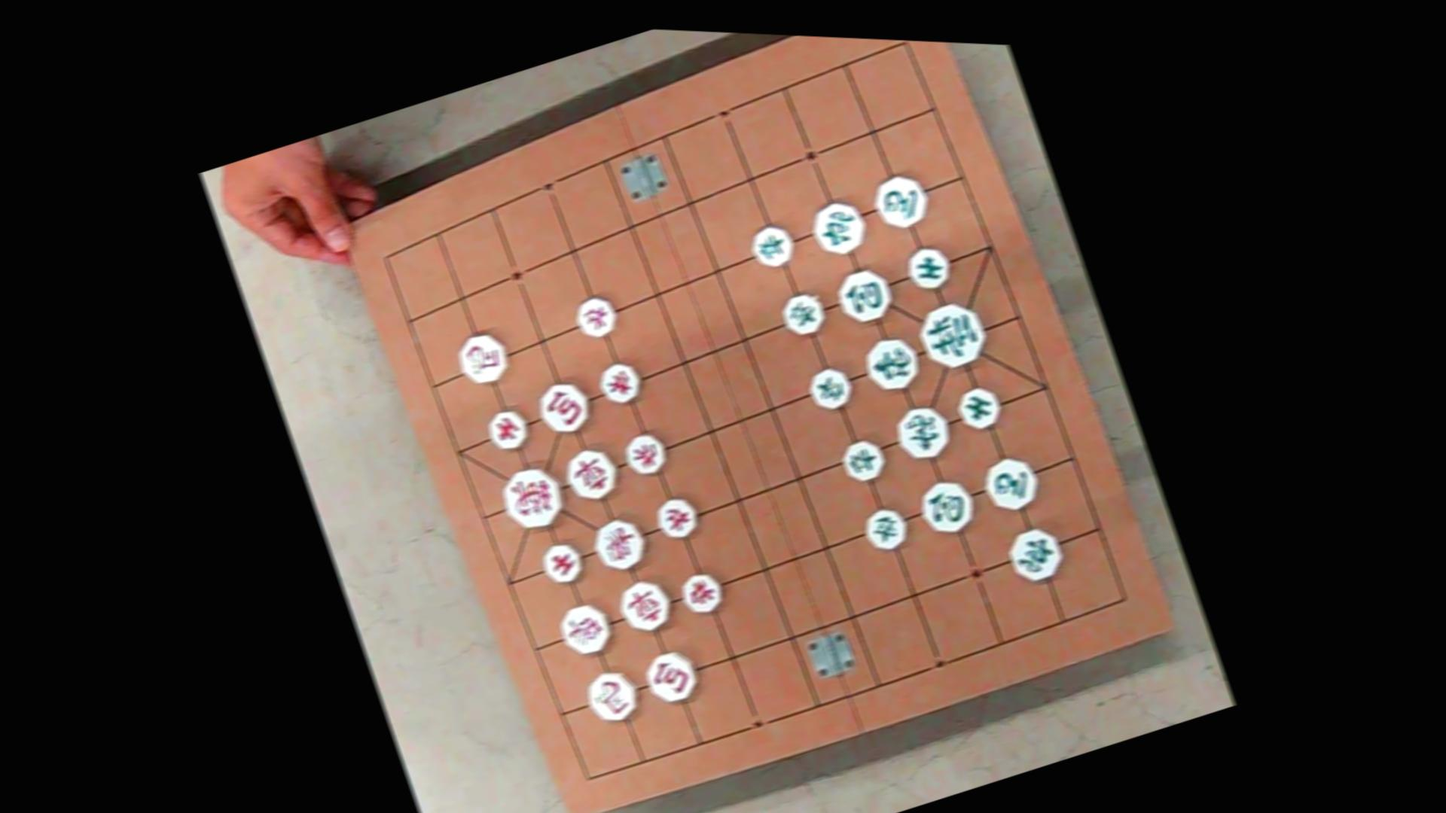cha_green: (805, 193, 871, 260), (1002, 521, 1068, 587)
cha_red: (559, 441, 624, 505), (612, 572, 676, 637)
jol_green: (776, 287, 830, 340), (804, 362, 856, 415), (837, 434, 889, 486), (746, 220, 798, 272), (859, 503, 911, 555)
jol_red: (593, 356, 645, 408), (620, 428, 671, 480), (651, 492, 702, 543), (570, 291, 621, 342), (676, 568, 727, 618)
ma_green: (978, 450, 1043, 516), (868, 168, 932, 233)
ma_red: (451, 327, 514, 391), (581, 665, 644, 728)
po_green: (831, 263, 897, 328), (914, 474, 978, 540)
po_red: (532, 374, 596, 438), (639, 644, 703, 708)
sa_green: (901, 242, 955, 295), (953, 382, 1004, 433)
sa_red: (537, 537, 587, 589), (483, 404, 532, 455)
sang_green: (889, 398, 956, 466), (859, 330, 926, 397)
sang_red: (587, 512, 651, 576), (554, 598, 616, 659)
wang_green: (911, 294, 993, 376)
wang_red: (494, 459, 571, 537)
